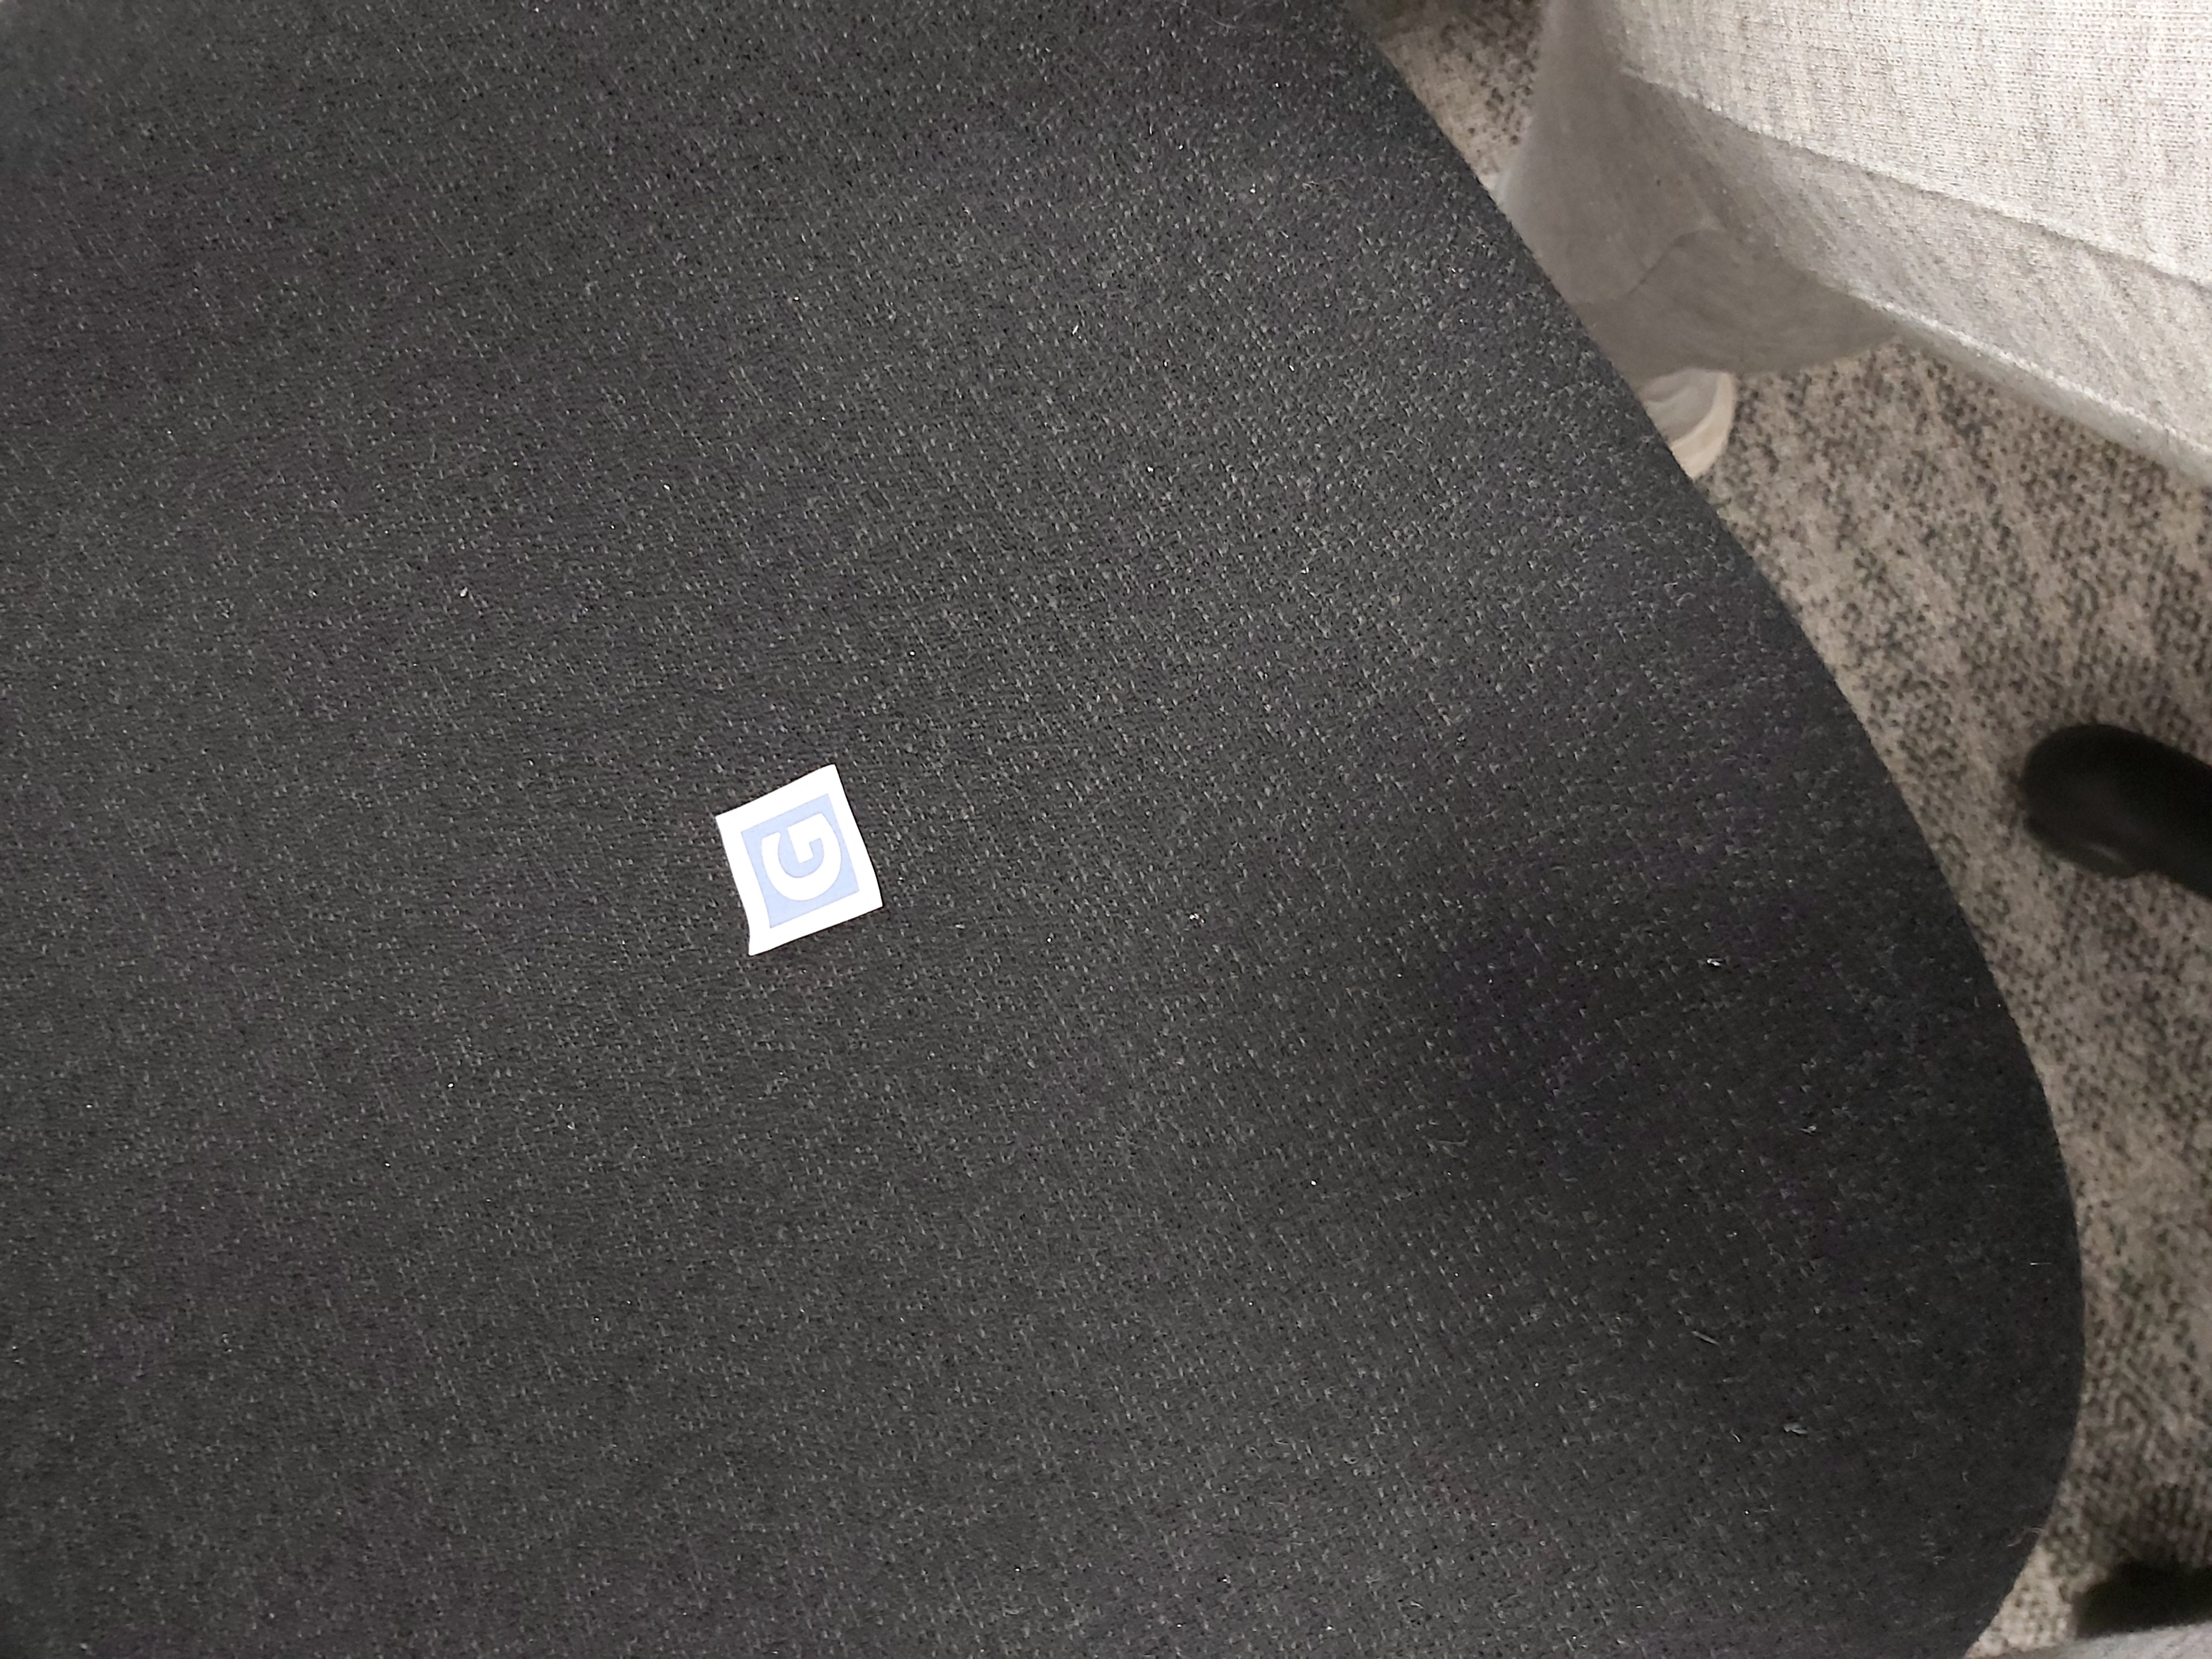marker: (712, 772, 899, 960)
